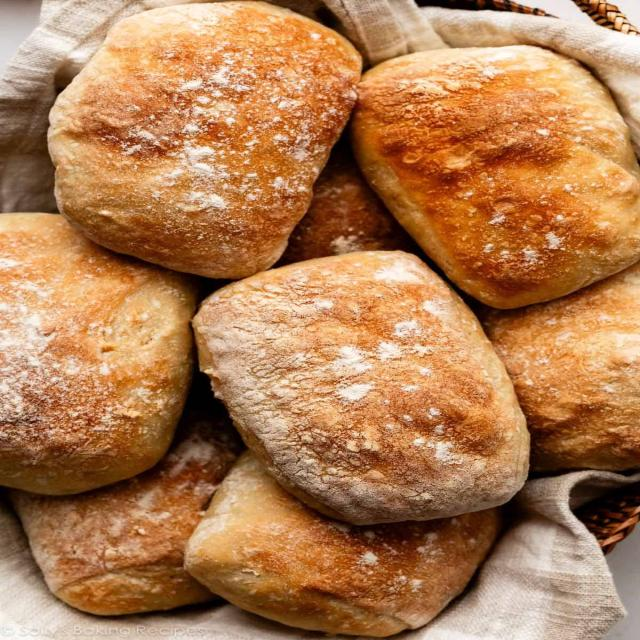Ciabatta: (193, 251, 529, 525), (48, 2, 362, 278), (351, 46, 639, 309), (0, 213, 198, 495), (402, 354, 412, 361)
